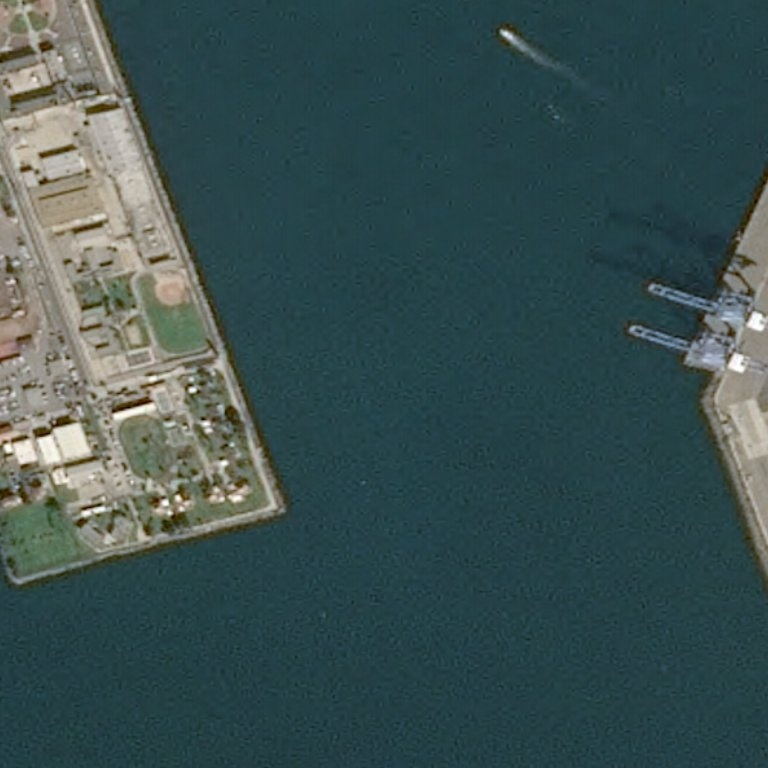ship: (496, 24, 515, 43)
